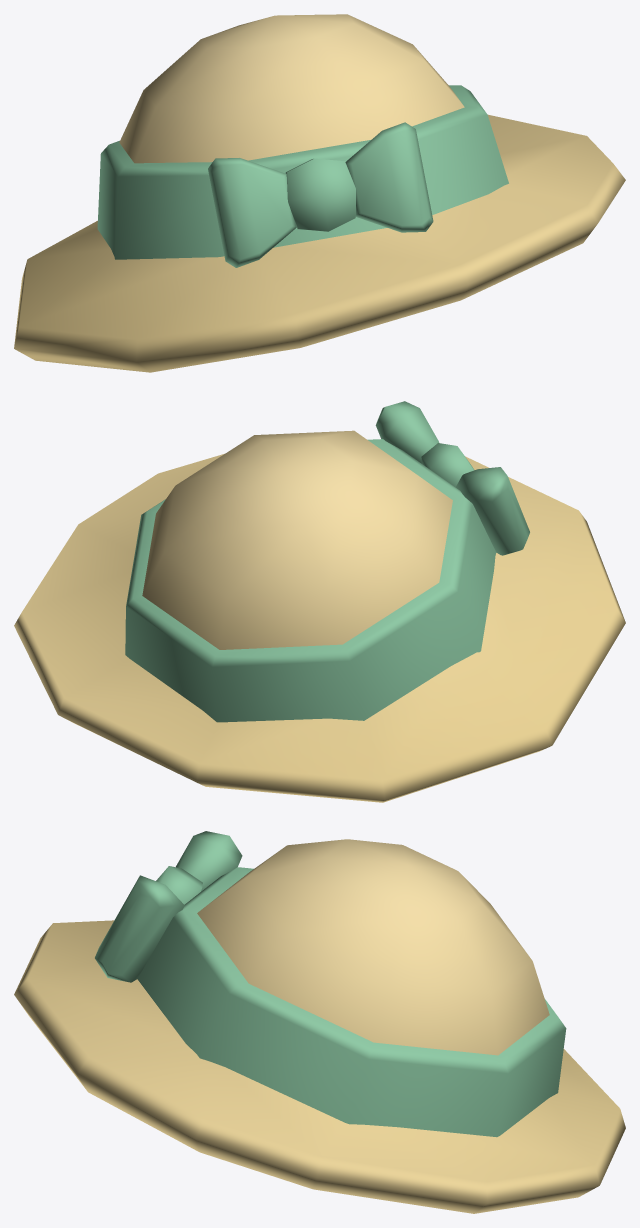
Rendered from Headgear_16.fbx.
3 views of the same model, one above another, from view 1: azimuth 30°, elevation 25°; view 2: azimuth 150°, elevation 25°; view 3: azimuth 270°, elevation 25° (orthographic). The views are drawn at different scales.
Visible parts, largest first — view 1: Headgear_16; view 2: Headgear_16; view 3: Headgear_16.
Part boxes in pixels (bbox=[...]): Headgear_16: bbox=[14, 14, 625, 372]; Headgear_16: bbox=[14, 401, 625, 802]; Headgear_16: bbox=[14, 831, 625, 1213].
Size of the model in its own units: 101 by 49.81 by 93.64.
